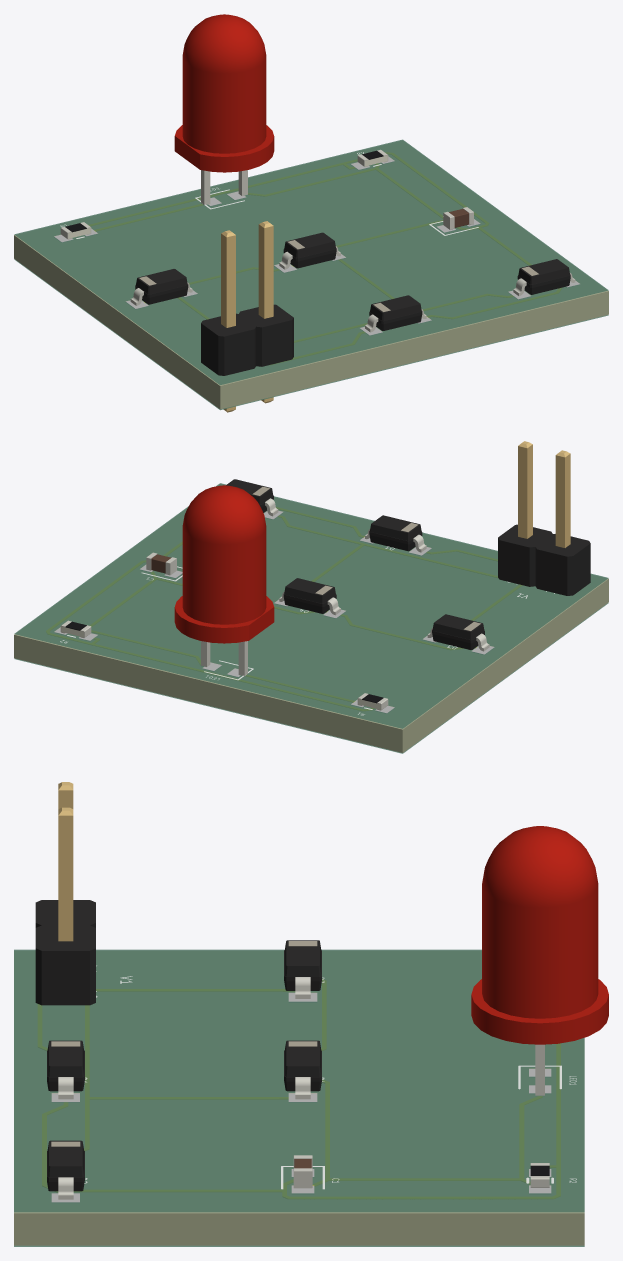
Rendered from bridge-rectifier.glb.
3 views of the same model, one above another, from view 1: azimuth 30°, elevation 25°; view 2: azimuth 150°, elevation 25°; view 3: azimuth 270°, elevation 25° (orthographic). The views are drawn at different scales.
Parts seen in each view (by area): view 1: =>[0:1:1:17], =>[0:1:1:15], =>[0:1:1:9], =>[0:1:1:11], =>[0:1:1:3] (×4), =>[0:1:1:12], =>[0:1:1:13], =>[0:1:1:16], =>[0:1:1:7]; view 2: =>[0:1:1:17], =>[0:1:1:15], =>[0:1:1:9], =>[0:1:1:11], =>[0:1:1:3] (×4), =>[0:1:1:12], =>[0:1:1:13], =>[0:1:1:16], =>[0:1:1:7]; view 3: =>[0:1:1:17], =>[0:1:1:15], =>[0:1:1:9], =>[0:1:1:11], =>[0:1:1:3] (×4), =>[0:1:1:12], =>[0:1:1:13], =>[0:1:1:16], =>[0:1:1:7].
Part boxes in pixels (bbox=[...]): =>[0:1:1:17]: bbox=[14, 141, 608, 409]; =>[0:1:1:15]: bbox=[14, 139, 608, 385]; =>[0:1:1:9]: bbox=[174, 14, 274, 205]; =>[0:1:1:11]: bbox=[201, 221, 293, 412]; =>[0:1:1:3] (×4): bbox=[130, 232, 575, 332]; =>[0:1:1:12]: bbox=[89, 153, 561, 358]; =>[0:1:1:13]: bbox=[54, 156, 580, 335]; =>[0:1:1:16]: bbox=[14, 259, 608, 410]; =>[0:1:1:7]: bbox=[443, 207, 473, 229]; =>[0:1:1:17]: bbox=[14, 484, 608, 752]; =>[0:1:1:15]: bbox=[14, 483, 608, 728]; =>[0:1:1:9]: bbox=[174, 485, 274, 676]; =>[0:1:1:11]: bbox=[498, 441, 590, 595]; =>[0:1:1:3] (×4): bbox=[226, 479, 489, 651]; =>[0:1:1:12]: bbox=[46, 507, 521, 710]; =>[0:1:1:13]: bbox=[54, 511, 494, 713]; =>[0:1:1:16]: bbox=[14, 603, 608, 753]; =>[0:1:1:7]: bbox=[146, 552, 176, 575]; =>[0:1:1:17]: bbox=[14, 951, 584, 1245]; =>[0:1:1:15]: bbox=[14, 949, 584, 1212]; =>[0:1:1:9]: bbox=[471, 826, 608, 1095]; =>[0:1:1:11]: bbox=[35, 782, 95, 1005]; =>[0:1:1:3] (×4): bbox=[47, 940, 321, 1199]; =>[0:1:1:12]: bbox=[38, 980, 560, 1198]; =>[0:1:1:13]: bbox=[51, 993, 551, 1202]; =>[0:1:1:16]: bbox=[14, 1245, 584, 1246]; =>[0:1:1:7]: bbox=[293, 1155, 312, 1188].
Bounding box in the file's own units: 0.0262 × 0.0146 × 0.0251.
